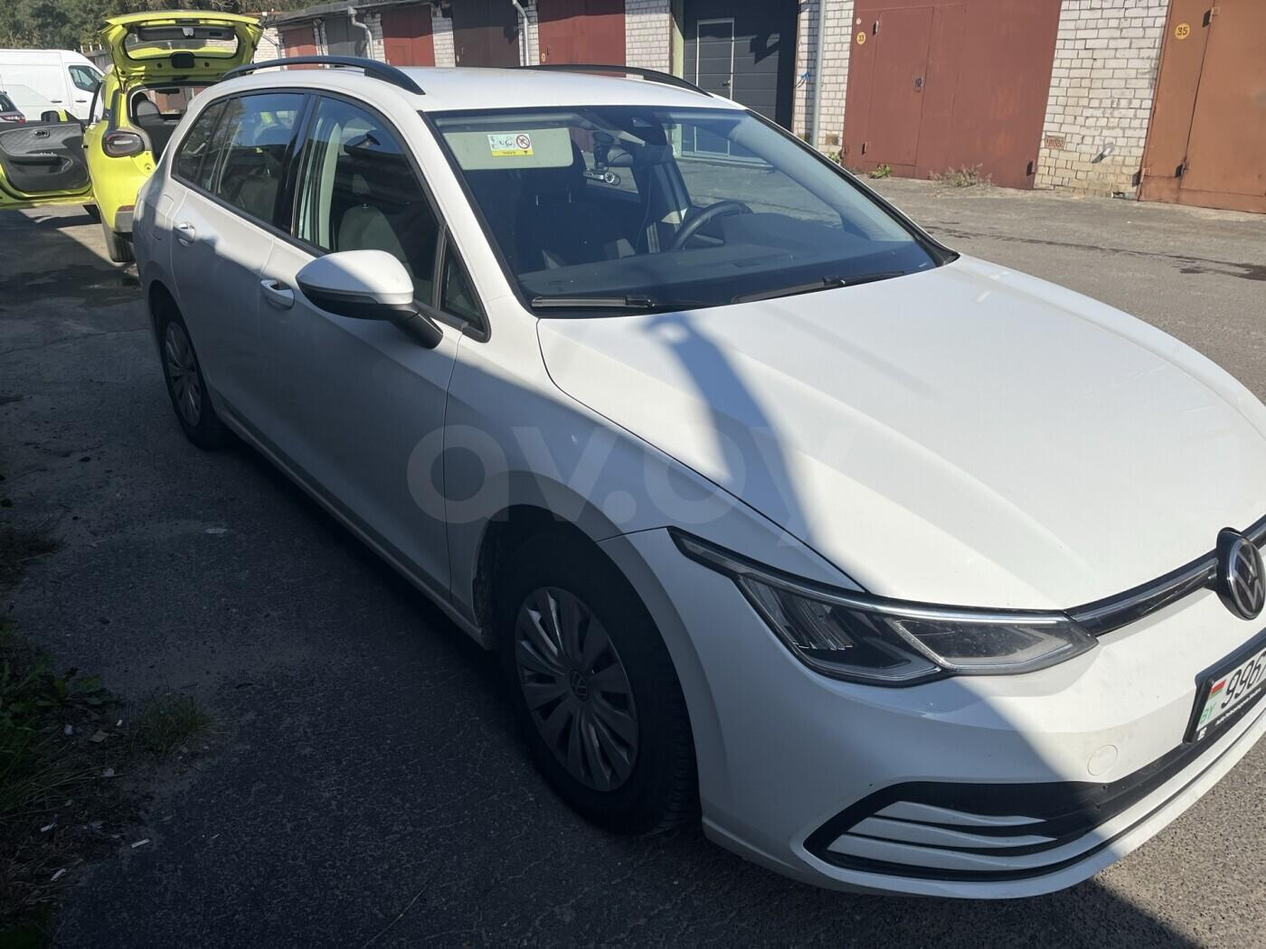Golf_2019: (121, 57, 1266, 897)
